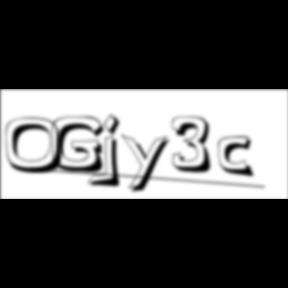3: (173, 116, 219, 176)
G: (52, 116, 110, 176)
O: (6, 117, 70, 176)
c: (219, 136, 259, 180)
j: (100, 113, 128, 191)
y: (121, 132, 175, 196)
